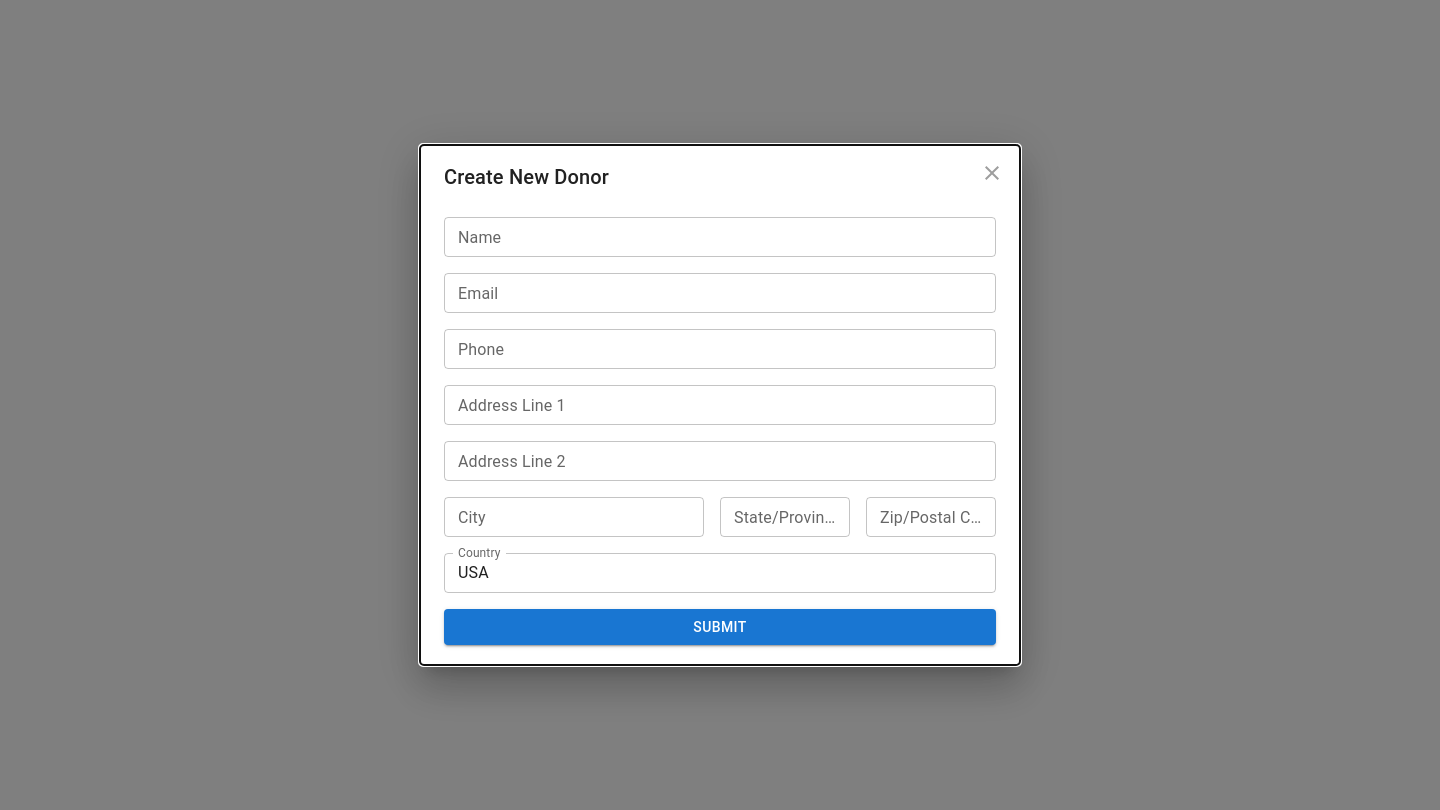
Test: QuickDonorCreateDialog › shows generic error in Snackbar when API fails with network error
Type "Test User" into the field labelled "Name" at (720, 237), box [444,217,996,257]
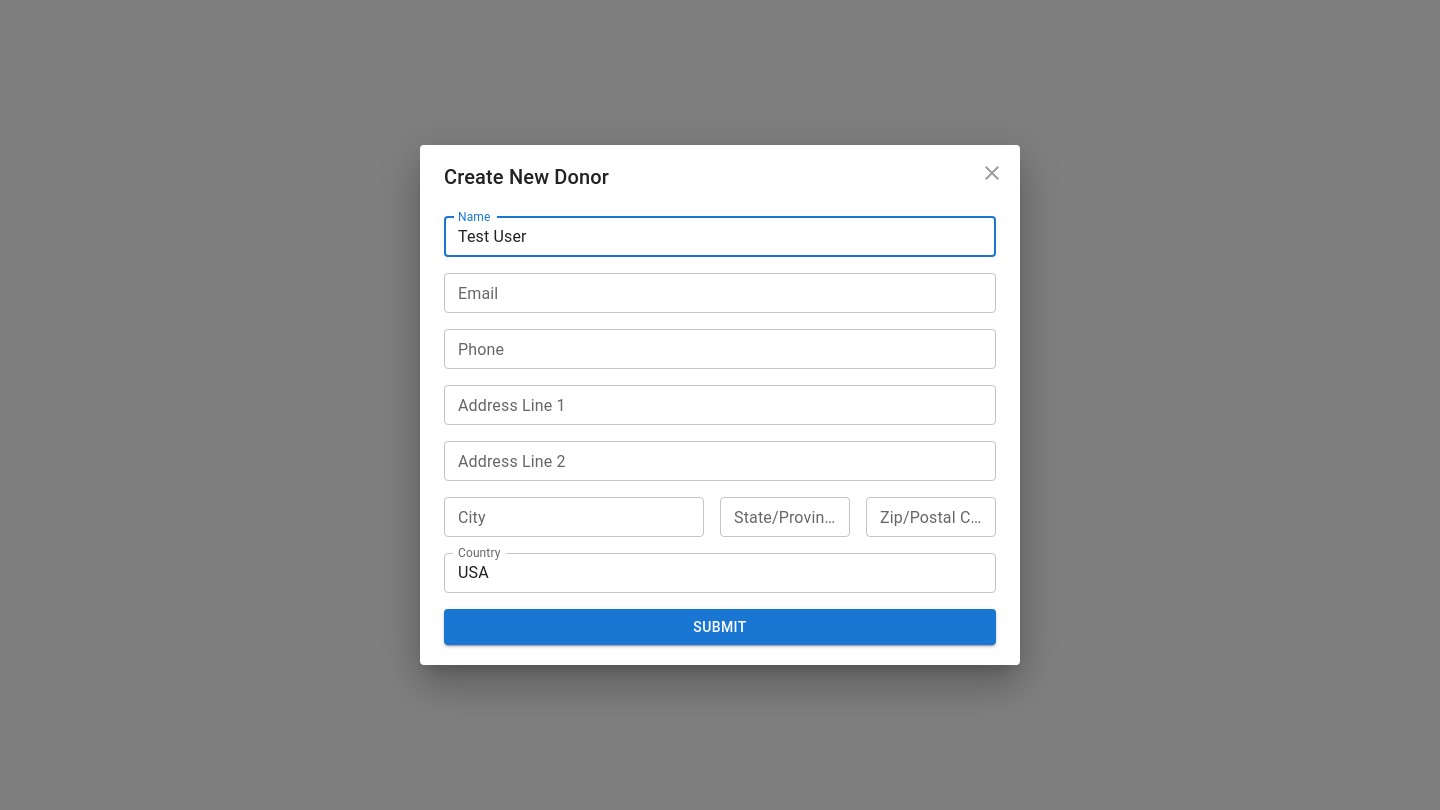
Type "test@example.com" into the field labelled "Email" at (720, 293), box [444,273,996,313]
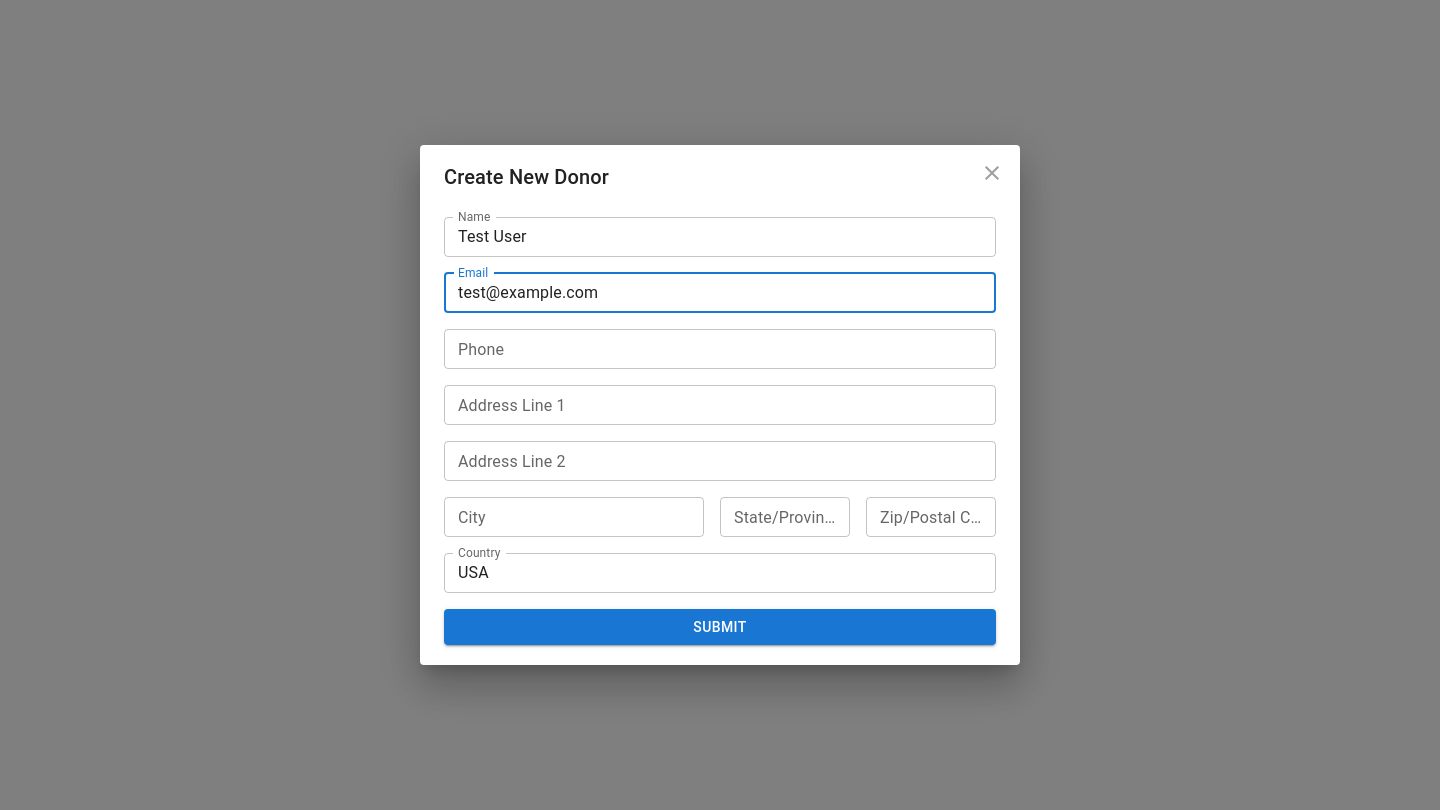
Click the button "Submit" at (720, 627), box [444,609,996,645]
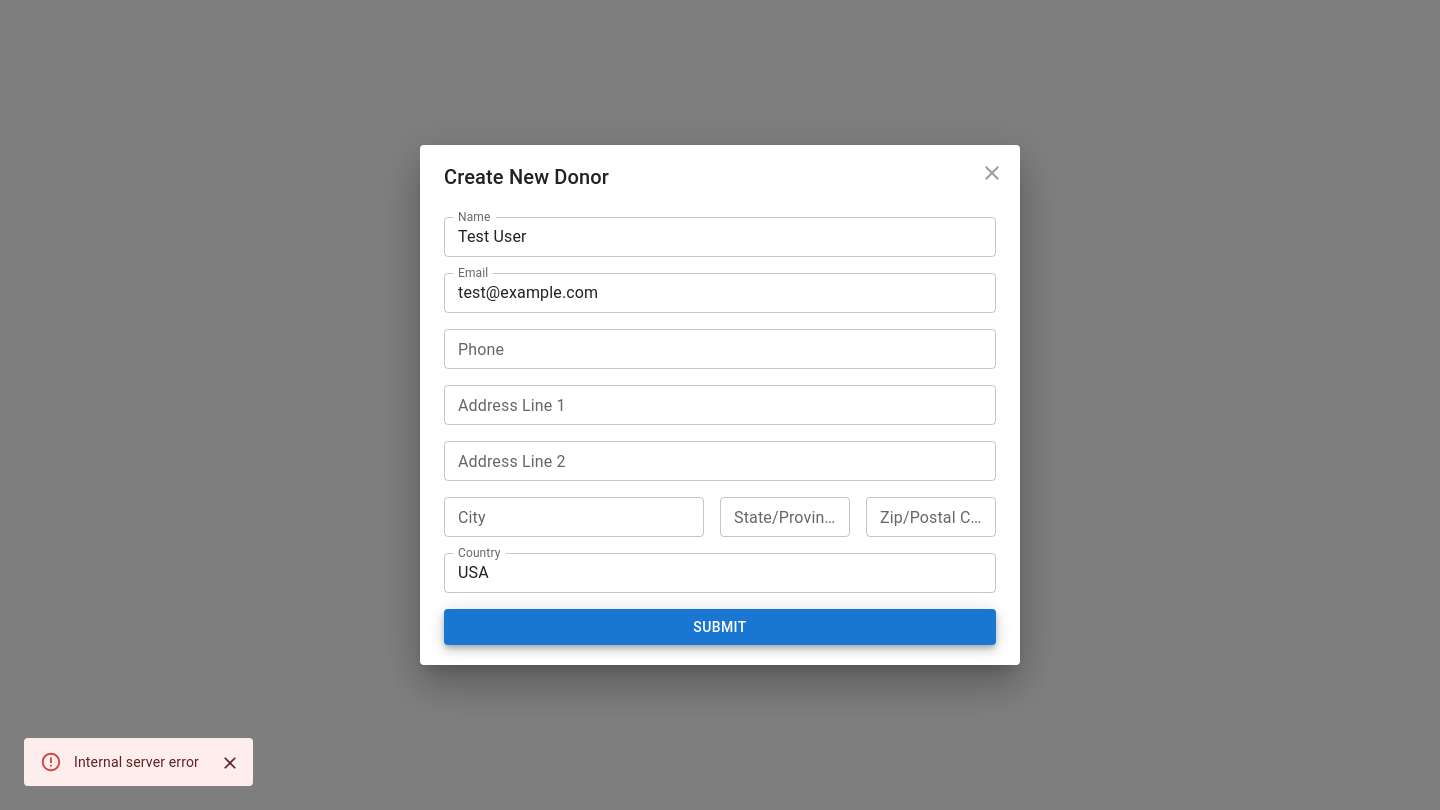
Now the text "Internal server error" is shown, box [74,754,199,770]
